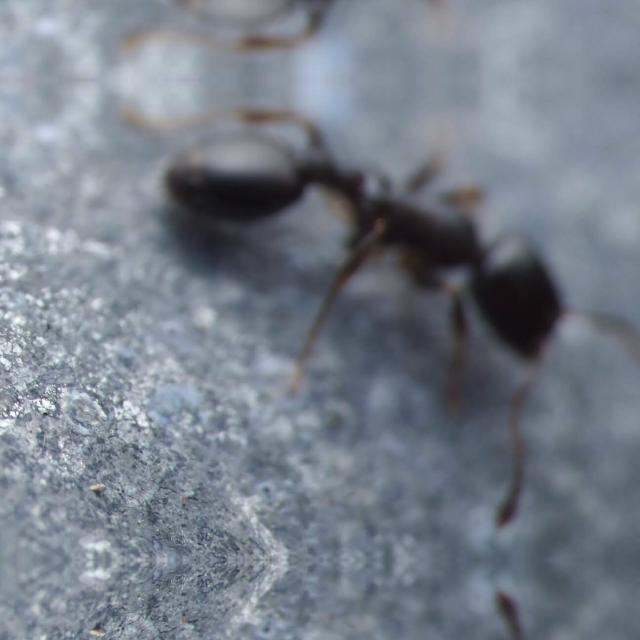Temnothorax: (152, 80, 640, 447), (152, 0, 638, 80)
